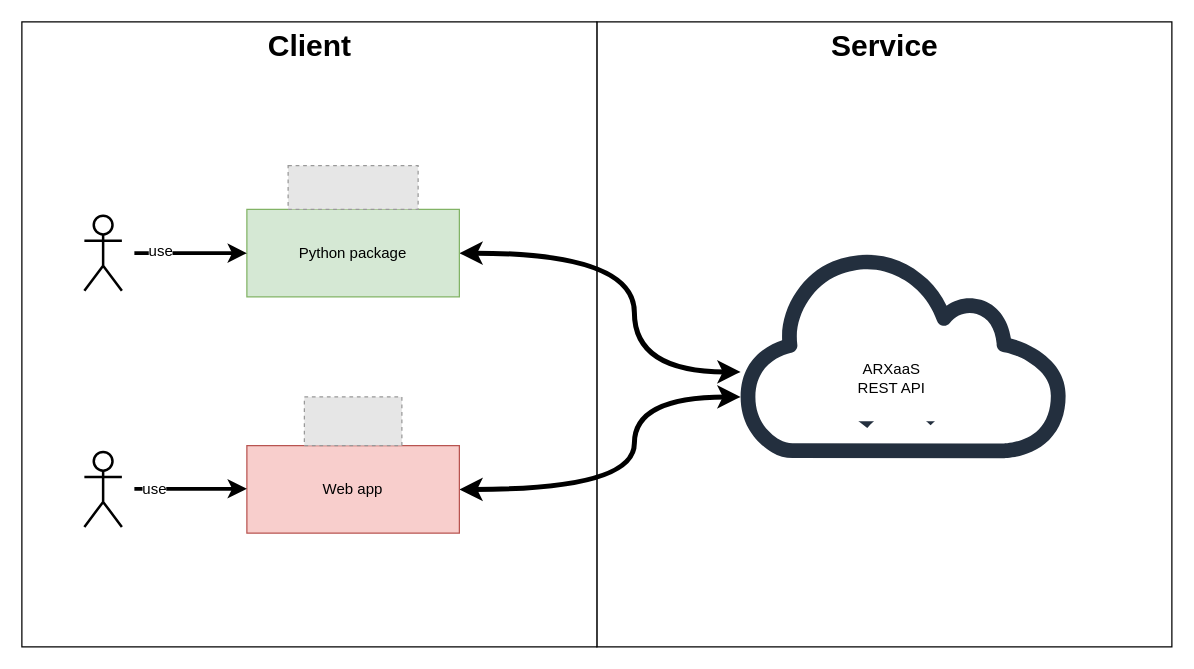
Some shapes in this 1194 by 669 pixel diagram are drawn without their labels. Grey dashed boxes stand in for pictures. Each missing label, with the centre of its shape:
Data analyst: the point at 102,489
Data scientist: the point at 102,252
